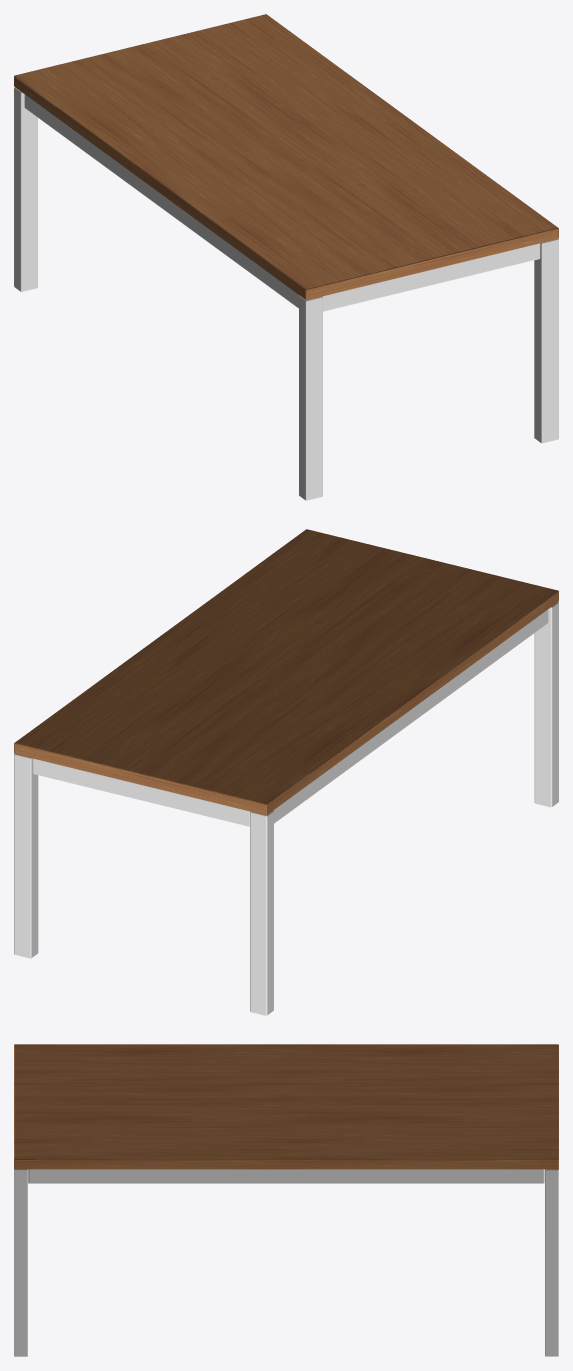
File: simple_office_table.obj
3 views of the same model, one above another, from view 1: azimuth 30°, elevation 25°; view 2: azimuth 150°, elevation 25°; view 3: azimuth 270°, elevation 25° (orthographic). The views are drawn at different scales.
Visible parts, largest first — view 1: obj1; view 2: obj1; view 3: obj1.
Part boxes in pixels (x1,y1,x2,y2): obj1: [14, 14, 558, 500]; obj1: [14, 529, 558, 1015]; obj1: [14, 1044, 558, 1356].
Size of the model in its own units: 1 by 0.8 by 2.
1 material, 1 textured.
